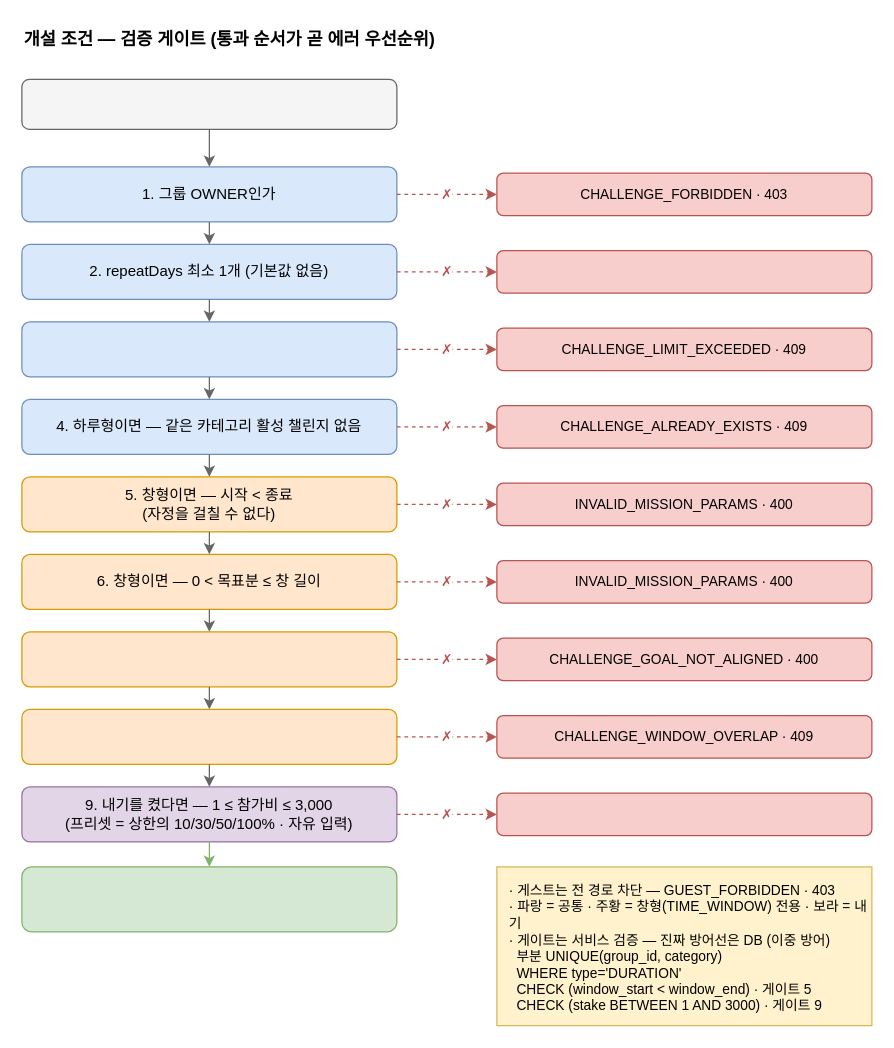
The diagram is 894 pixels wide and 1048 high, and some of its shapes have lost their labels. The box of each missing label's shape, as (x1, y1, x2, y2) in pixels:
201 · status = ACTIVE (만든 뒤로는 통째로 불변 — 바꾸려면 삭제 후 재생성): (21, 866, 397, 932)
3. 활성 챌린지 < 4개: (21, 321, 397, 377)
7. 창형 SCREEN_TIME이면 — 목표분이 15분 배수: (21, 631, 397, 687)
8. 창형이면 — 기존 창과 안 겹침 (요일 교집합 ≠ ∅ ∧ 간격 < 15분 → 겹침): (21, 708, 397, 764)
BET_INVALID_STAKE · 400: (496, 792, 872, 836)
CHALLENGE_REPEAT_DAYS_REQUIRED · 400: (496, 249, 872, 293)
POST /groups/{groupId}/challenges: (21, 78, 397, 129)
